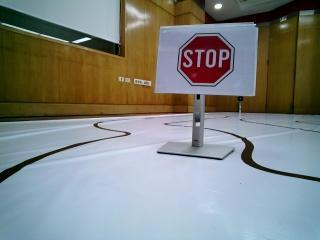stop: (160, 26, 252, 96)
